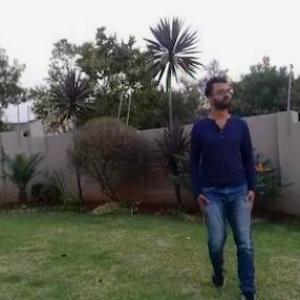follow: (183, 43, 268, 299)
